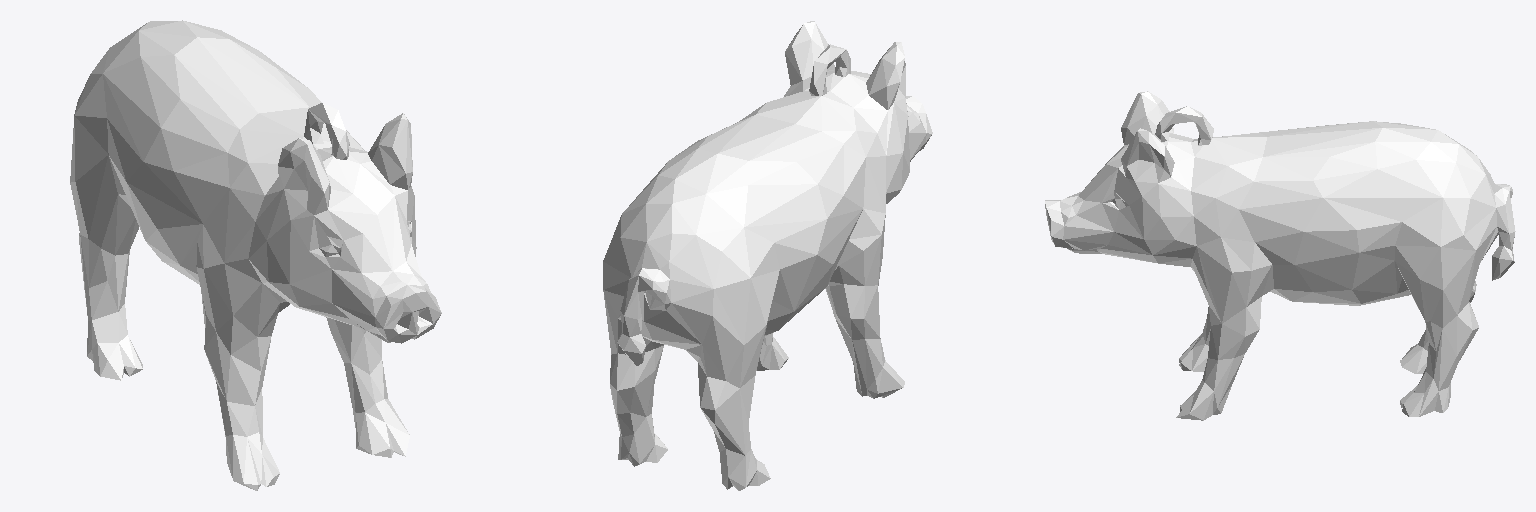
The robot description file, URDF, robot "simple_pig4.obj":
<robot name="simple_pig4.obj">
	<link name="_name">
		<visual>
			<origin xyz="0 0 0" rpy="0 0 0" />
			<geometry>
				<mesh filename="simple_pig4.obj" scale="1.0 1.0 1.0" />
			</geometry>
			<material name="texture">
				<color rgba="1.0 1.0 1.0 1.0" />
			</material>
		</visual>
		<collision>
			<geometry>
				<mesh filename="simple_pig4_vhacd.obj" scale="1.0 1.0 1.0" />
			</geometry>
		</collision>
		<inertial>
			<mass value="1.0" />
			<inertia ixx="1.0" ixy="0.0" ixz="0.0" iyy="1.0" iyz="0.0" izz="1.0" />
		</inertial>
	</link>
</robot>

--- Render facts (derived) ---
Views: 3 orthographic renders of the robot side by side, from view 1: azimuth 30°, elevation 25°; view 2: azimuth 150°, elevation 25°; view 3: azimuth 270°, elevation 25°.
Model simple_pig4.obj with 1 links and 0 joints (none), rooted at _name, posed all joints at 0.
Visible links, largest first — view 1: _name; view 2: _name; view 3: _name.
Link boxes in pixels (left/top/right/bottom): _name: left=70, top=20, right=441, bottom=490; _name: left=603, top=21, right=932, bottom=490; _name: left=1045, top=91, right=1515, bottom=420.
Bounding box of the posed robot: 2.41 × 6.95 × 4.63 m (x, y, z).
1 mesh visuals loaded from 1 distinct referenced files (1 OBJ).